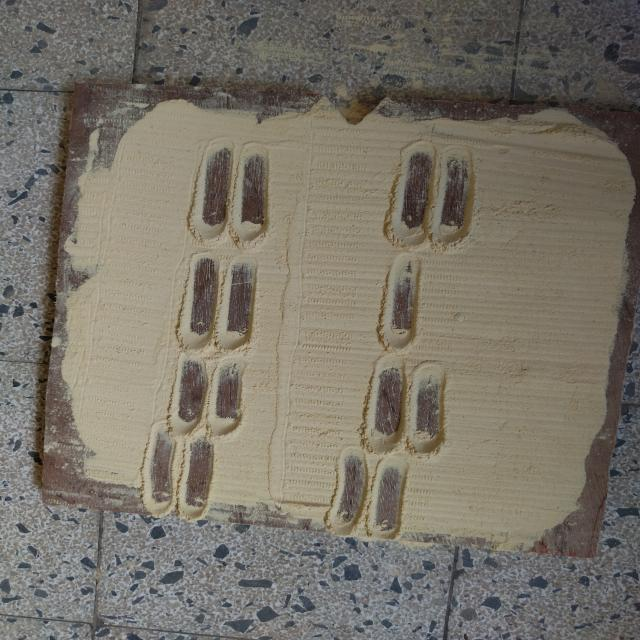double: (384, 135, 481, 254), (184, 136, 276, 250), (357, 352, 453, 460), (174, 252, 263, 352), (324, 444, 412, 544), (136, 422, 222, 522), (164, 352, 250, 442)
single: (374, 250, 428, 353)
